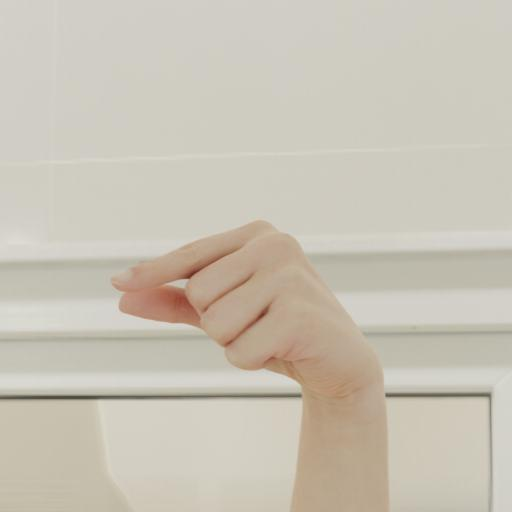G: (107, 210, 396, 407)
